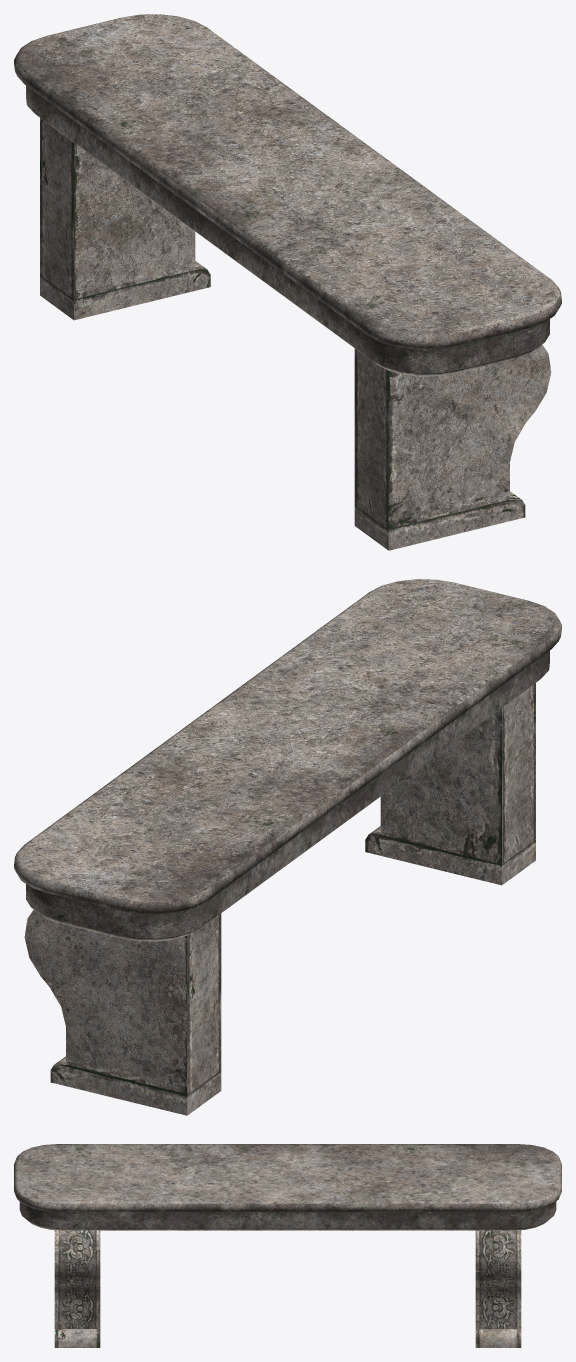
The model's file is Bench.fbx.
The picture shows the model from 3 angles, top to bottom: view 1: azimuth 30°, elevation 25°; view 2: azimuth 150°, elevation 25°; view 3: azimuth 270°, elevation 25°; orthographic projection. The views are drawn at different scales.
Parts seen in each view (by area): view 1: TopFine, LegsFine; view 2: TopFine, LegsFine; view 3: TopFine, LegsFine.
Boxes of the visible parts, x1,y1,x2,y2 form: TopFine: [14, 14, 561, 376]; LegsFine: [40, 118, 551, 550]; TopFine: [14, 579, 561, 941]; LegsFine: [24, 683, 535, 1115]; TopFine: [14, 1144, 561, 1230]; LegsFine: [54, 1230, 521, 1347].
Size of the model in its own units: 53.61 by 63.63 by 204.
